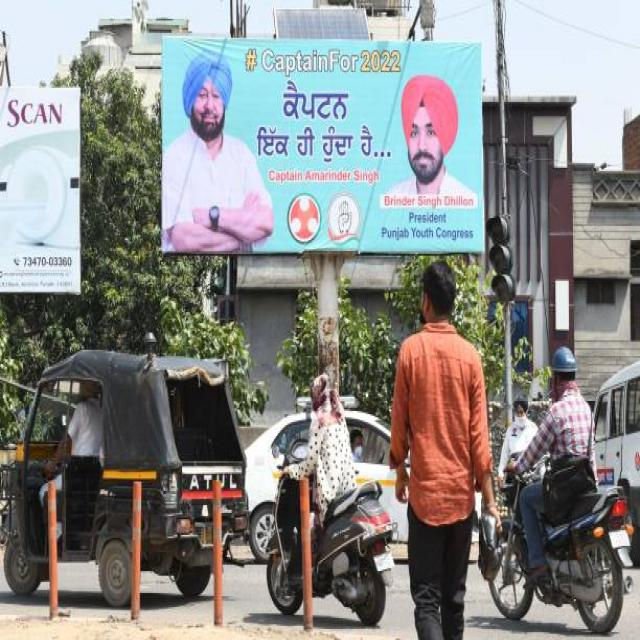Werbetafel frei: (163, 36, 485, 251), (1, 88, 78, 297)
